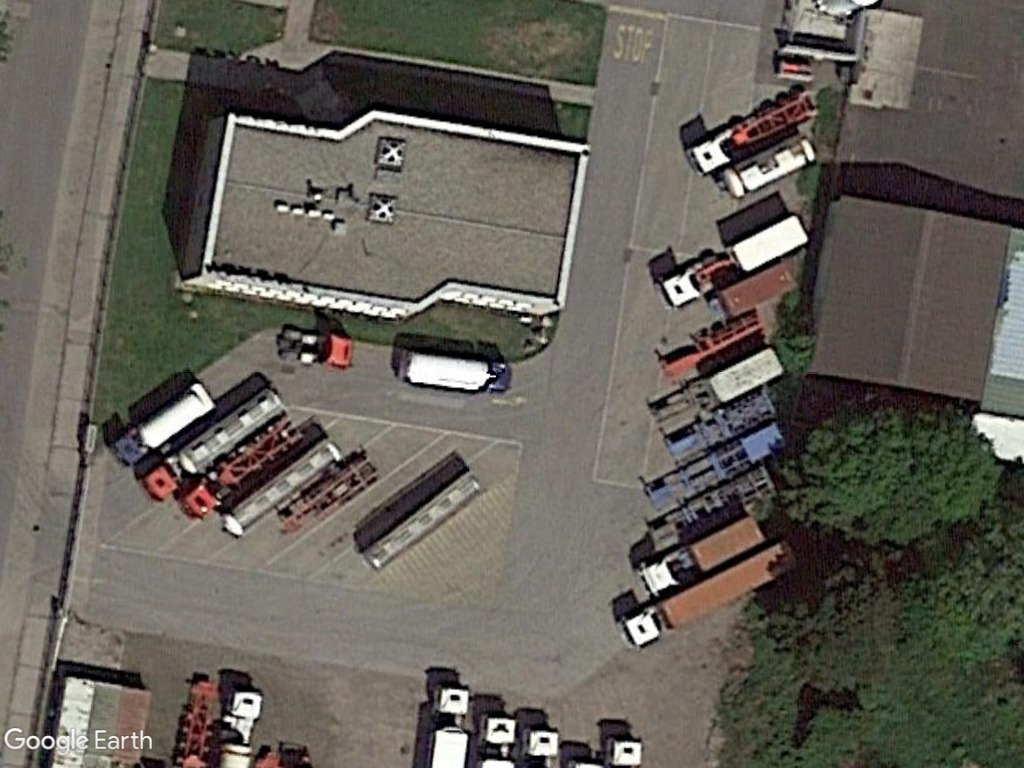longvehicle: (618, 538, 804, 650), (216, 435, 347, 544), (358, 467, 489, 573), (635, 512, 771, 598), (109, 379, 222, 468), (396, 346, 519, 397)
